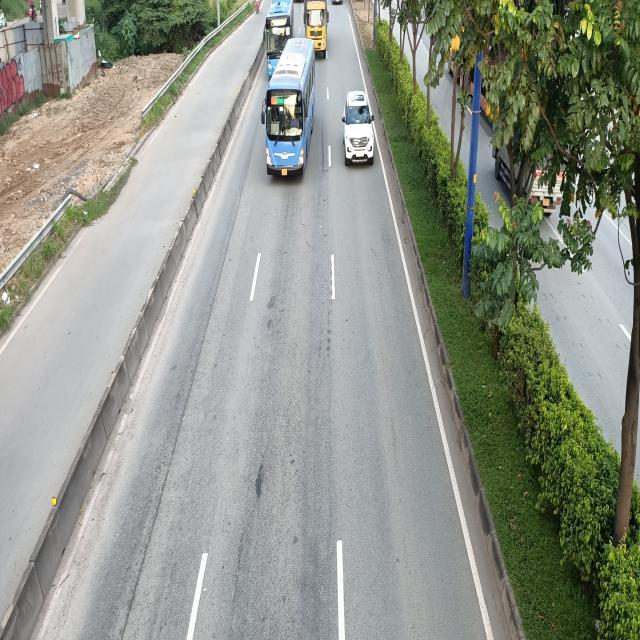car: (342, 92, 376, 167)
coach: (260, 41, 316, 180), (266, 0, 294, 80)
truck: (304, 2, 328, 57)
